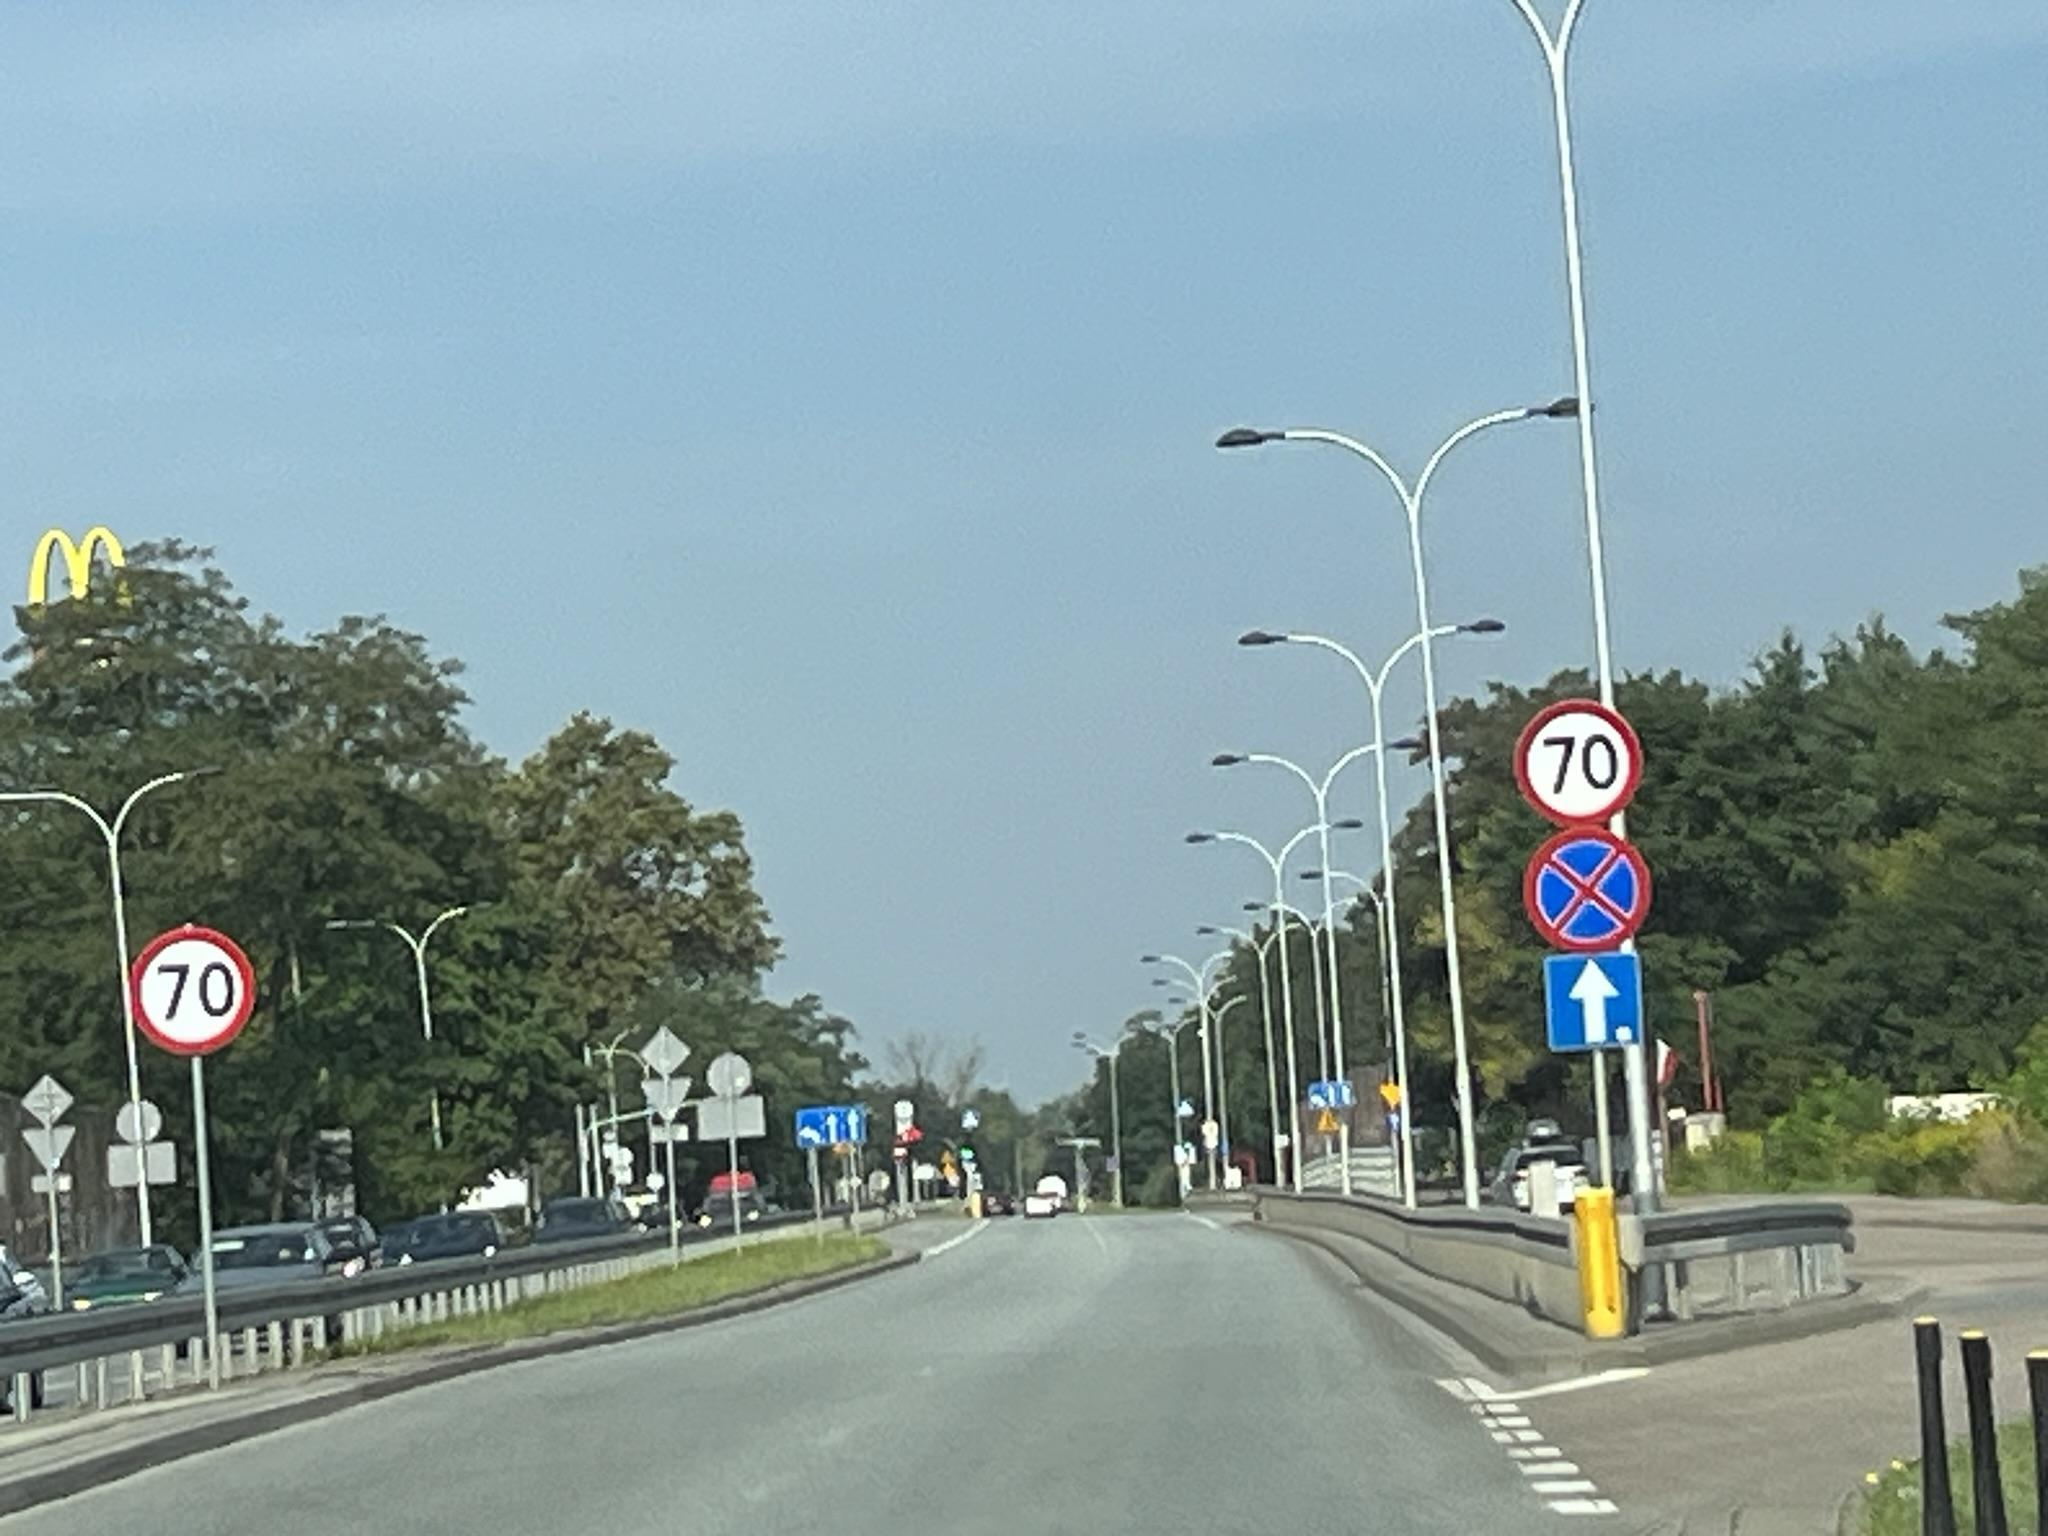information: (1540, 952, 1650, 1056)
other: (798, 1108, 868, 1148), (1307, 1081, 1355, 1111)
prohibitory: (128, 922, 258, 1058), (1518, 828, 1656, 956), (1514, 694, 1644, 828)
warning: (1379, 1080, 1406, 1111), (1316, 1109, 1341, 1132)
